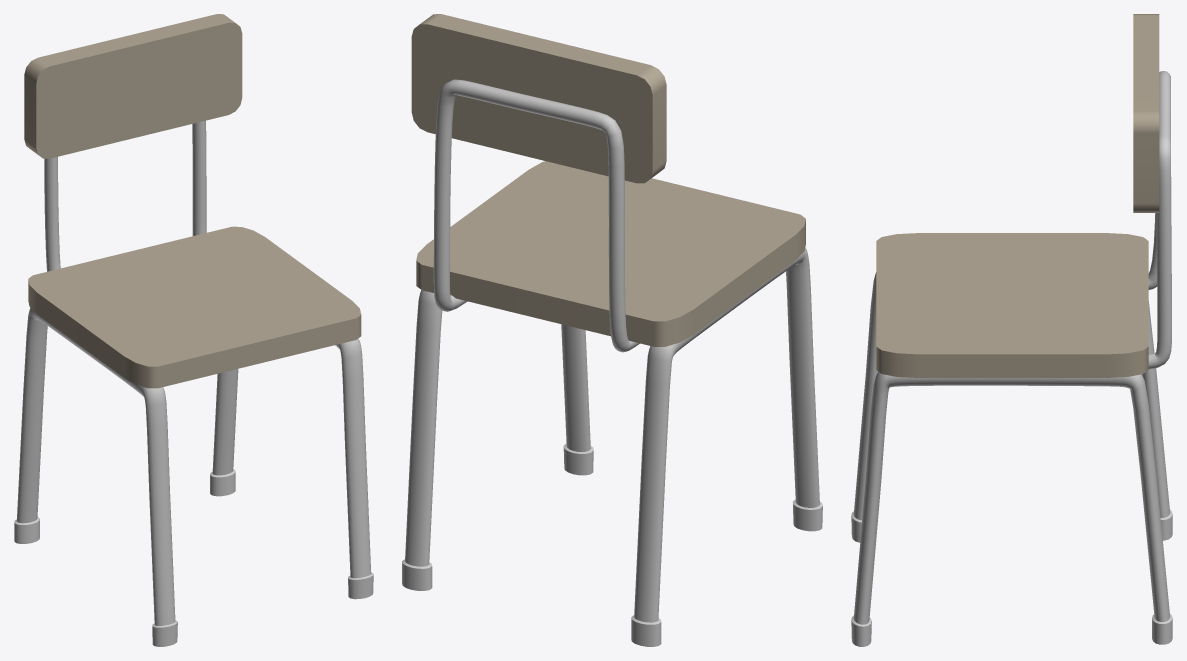
The model's file is Silla.fbx.
3 views of the same model, side by side, from view 1: azimuth 30°, elevation 25°; view 2: azimuth 150°, elevation 25°; view 3: azimuth 270°, elevation 25° (orthographic). The views are drawn at different scales.
Visible parts, largest first — view 1: Silla; view 2: Silla; view 3: Silla.
Boxes of the visible parts, left/top/right/bottom form: Silla: left=14, top=14, right=373, bottom=646; Silla: left=402, top=14, right=822, bottom=646; Silla: left=851, top=14, right=1172, bottom=646.
Bounding box in the file's own units: 0.8439 × 1.71 × 0.9452.
